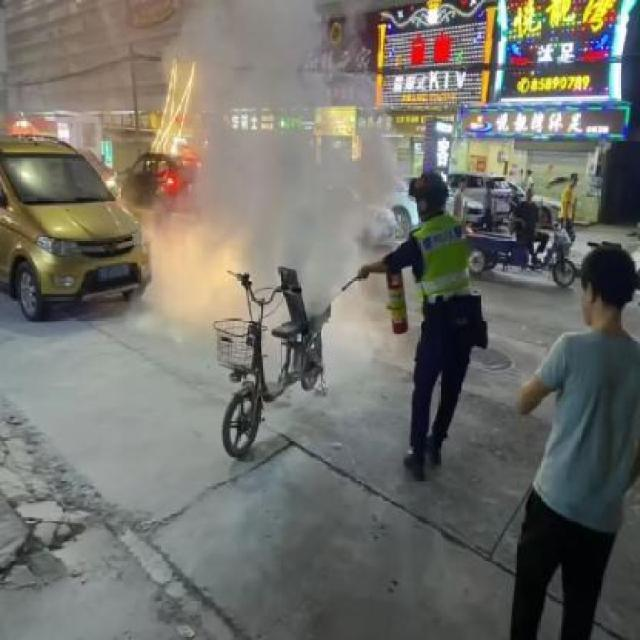Smoke: (205, 1, 342, 308), (219, 132, 384, 298)
